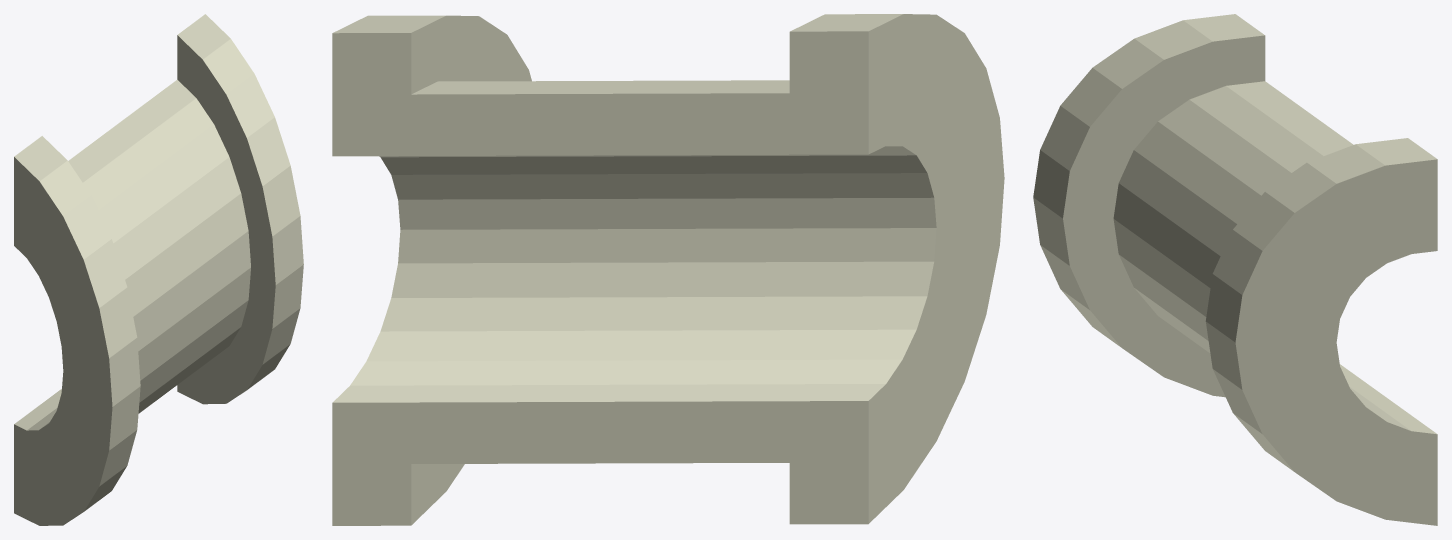
Rendered from section_061.obj.
The picture shows the model from 3 angles, left to right: view 1: azimuth 30°, elevation 25°; view 2: azimuth 150°, elevation 25°; view 3: azimuth 270°, elevation 25°; orthographic projection. The views are drawn at different scales.
Bounding box in the file's own units: 6.8 × 8 × 8.
